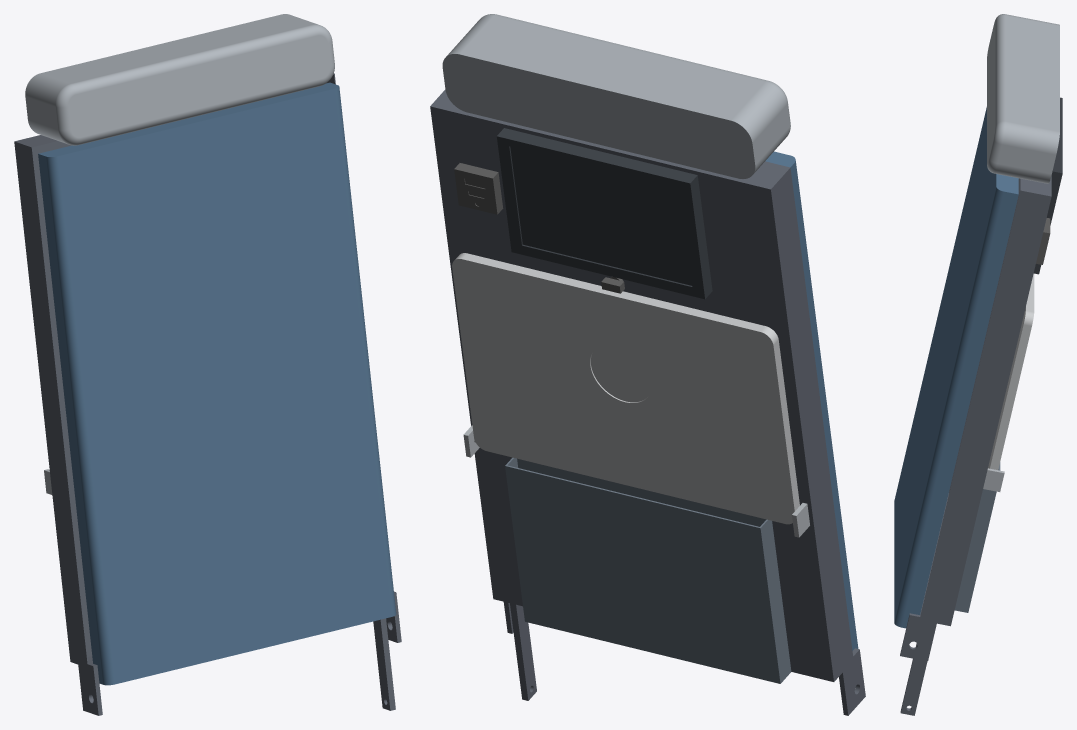
The model's file is esp2026_sa3_seat_back.glb.
3 renders of one model, left to right at view 1: azimuth 30°, elevation 25°; view 2: azimuth 150°, elevation 25°; view 3: azimuth 270°, elevation 25°, orthographic. The views are drawn at different scales.
Visible parts, largest first — view 1: back cushion cover, head rest, back shell; view 2: tray table, back shell, literature pocket, head rest, entertainment screen, back cushion cover, power and audio module; view 3: back cushion cover, back shell, head rest, tray table, literature pocket, entertainment screen, tray hinge arm, right, power and audio module.
Boxes of the visible parts, x1,y1,x2,y2 form: back cushion cover: (38,82,396,685); head rest: (25,14,334,145); back shell: (14,73,401,715); tray table: (452,253,799,524); back shell: (430,89,865,715); literature pocket: (505,457,791,683); head rest: (442,14,790,178); entertainment screen: (496,128,712,299); back cushion cover: (765,151,858,650); power and audio module: (454,163,503,214); back cushion cover: (894,107,1018,628); back shell: (900,176,1051,715); head rest: (987,14,1059,183); tray table: (988,273,1034,469); literature pocket: (954,462,1000,612); entertainment screen: (1034,97,1062,274); tray hinge arm, right: (983,468,1004,491); power and audio module: (1036,218,1050,264).
Size of the model in its own units: 440 by 903 by 236.
